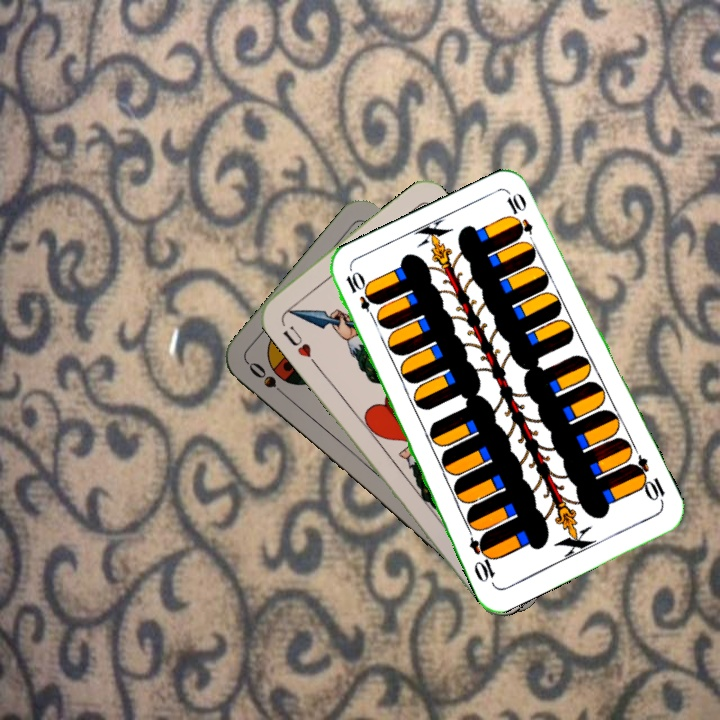E10: (626, 452, 668, 507), (341, 268, 380, 324)
HU: (278, 322, 314, 361)
SO: (244, 357, 292, 402)
